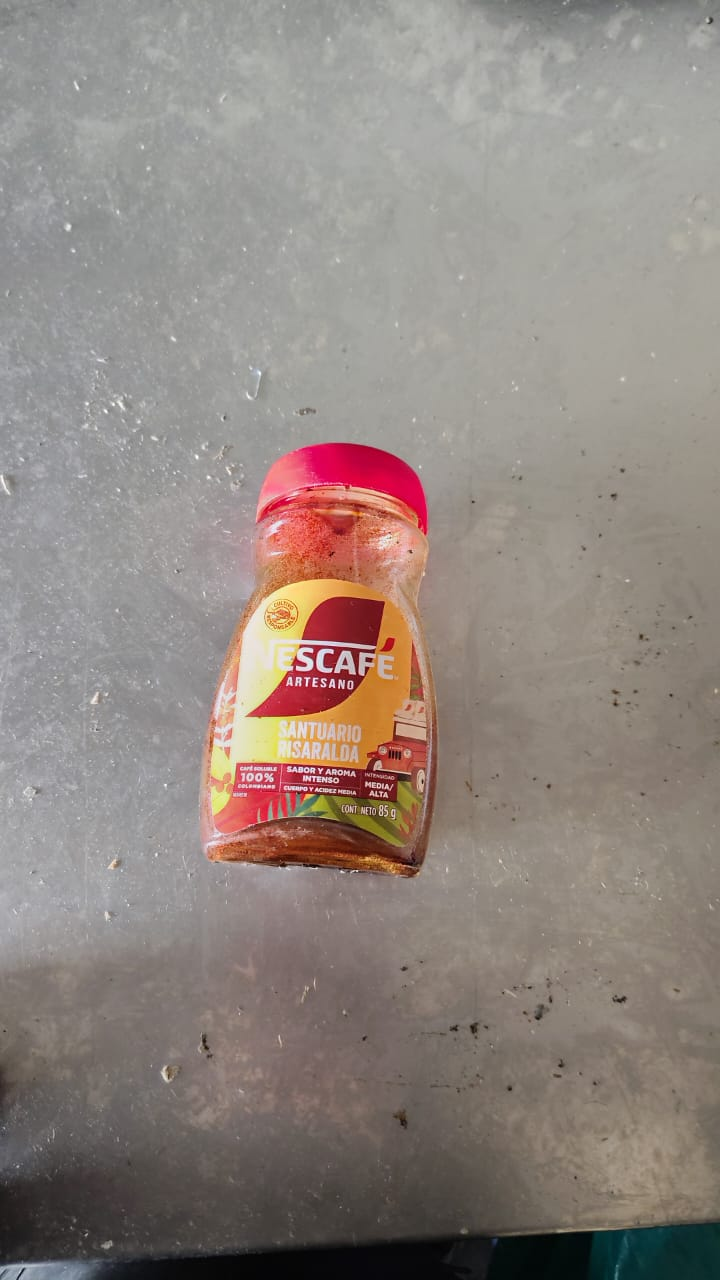Plastico: (202, 439, 437, 878)
